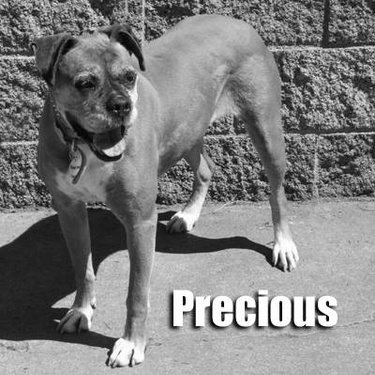dog: (17, 8, 307, 373)
